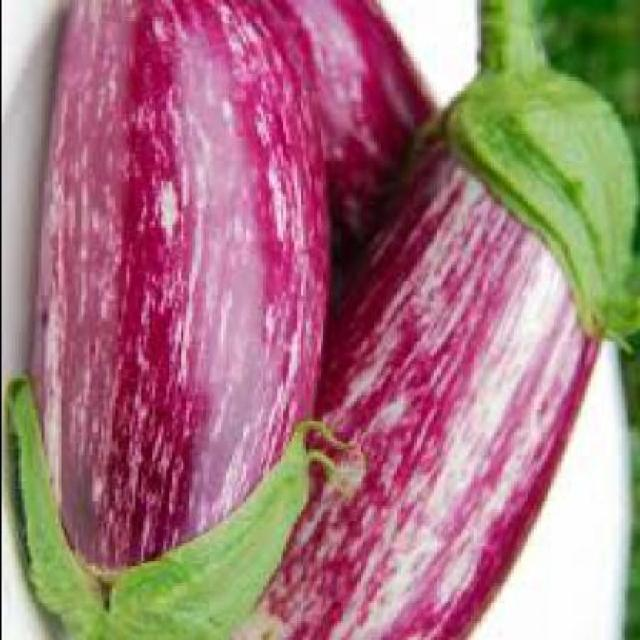BIODEGRADABLE: (267, 0, 638, 638), (2, 0, 347, 637), (531, 0, 638, 640), (270, 0, 438, 271)
